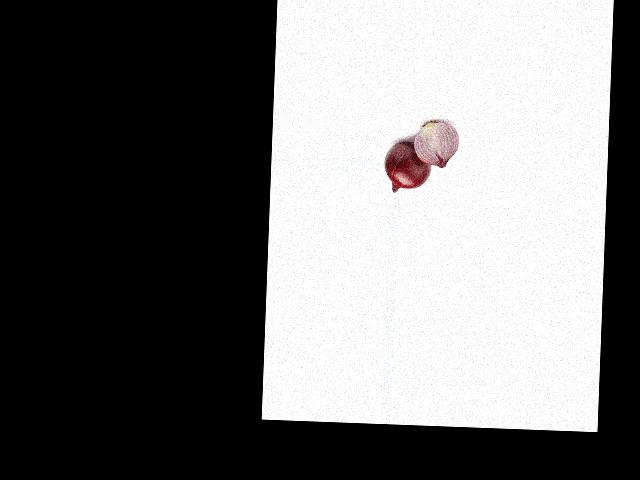onion: (416, 121, 458, 169)
